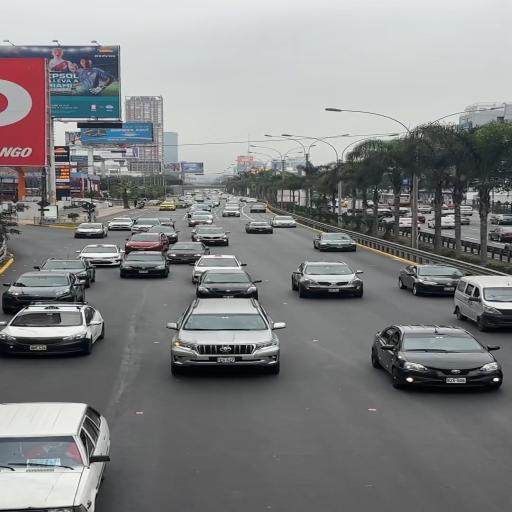auto: (0, 402, 113, 510), (166, 296, 285, 372), (371, 325, 504, 390), (0, 301, 106, 356), (0, 268, 89, 310), (453, 274, 512, 330), (290, 260, 364, 298), (189, 269, 262, 300), (398, 263, 466, 296), (34, 257, 96, 287), (190, 254, 247, 284), (118, 250, 173, 278), (76, 244, 126, 268), (122, 232, 173, 254), (163, 241, 211, 262), (312, 232, 360, 252), (189, 224, 230, 245), (144, 224, 180, 244), (74, 222, 110, 239), (130, 218, 162, 232), (244, 220, 274, 234), (106, 217, 136, 231), (270, 215, 298, 228), (488, 227, 512, 242), (488, 214, 510, 224)
